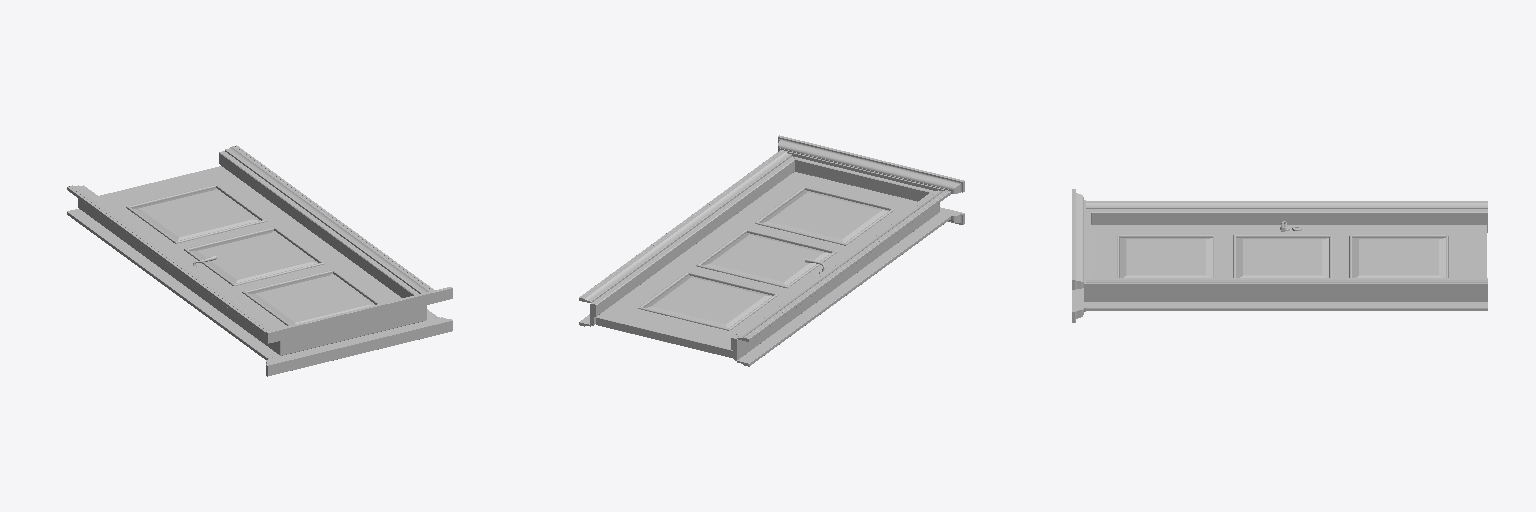
File: porta.obj
3 views of the same model, side by side, from view 1: azimuth 30°, elevation 25°; view 2: azimuth 150°, elevation 25°; view 3: azimuth 270°, elevation 25° (orthographic).
Parts seen in each view (by area): view 1: resurs3d.blogspot.com709, resurs3d.blogspot.com703, resurs3d.blogspot.com706, resurs3d.blogspot.com704, resurs3d.blogspot.com712, resurs3d.blogspot.com711, resurs3d.blogspot.com702, resurs3d.blogspot.com710, resurs3d.blogspot.com700; view 2: resurs3d.blogspot.com709, resurs3d.blogspot.com703, resurs3d.blogspot.com710, resurs3d.blogspot.com704, resurs3d.blogspot.com712, resurs3d.blogspot.com702, resurs3d.blogspot.com711, resurs3d.blogspot.com700; view 3: resurs3d.blogspot.com709, resurs3d.blogspot.com703, resurs3d.blogspot.com702, resurs3d.blogspot.com705, resurs3d.blogspot.com711, resurs3d.blogspot.com712, resurs3d.blogspot.com710.
Boxes of the visible parts, x1=… form: resurs3d.blogspot.com709: x1=99, y1=166, x2=401, y2=327; resurs3d.blogspot.com703: x1=219, y1=151, x2=418, y2=297; resurs3d.blogspot.com706: x1=266, y1=317, x2=452, y2=376; resurs3d.blogspot.com704: x1=67, y1=209, x2=279, y2=359; resurs3d.blogspot.com712: x1=225, y1=145, x2=434, y2=293; resurs3d.blogspot.com711: x1=67, y1=185, x2=274, y2=334; resurs3d.blogspot.com702: x1=78, y1=185, x2=280, y2=355; resurs3d.blogspot.com710: x1=266, y1=287, x2=452, y2=343; resurs3d.blogspot.com700: x1=281, y1=305, x2=426, y2=355; resurs3d.blogspot.com709: x1=596, y1=172, x2=916, y2=358; resurs3d.blogspot.com703: x1=590, y1=156, x2=794, y2=325; resurs3d.blogspot.com710: x1=778, y1=135, x2=964, y2=194; resurs3d.blogspot.com704: x1=737, y1=214, x2=949, y2=366; resurs3d.blogspot.com712: x1=579, y1=150, x2=791, y2=302; resurs3d.blogspot.com702: x1=731, y1=192, x2=939, y2=360; resurs3d.blogspot.com711: x1=737, y1=190, x2=949, y2=341; resurs3d.blogspot.com700: x1=794, y1=157, x2=936, y2=201; resurs3d.blogspot.com709: x1=1091, y1=225, x2=1486, y2=277; resurs3d.blogspot.com703: x1=1084, y1=278, x2=1487, y2=301; resurs3d.blogspot.com702: x1=1086, y1=209, x2=1487, y2=231; resurs3d.blogspot.com705: x1=1086, y1=302, x2=1487, y2=310; resurs3d.blogspot.com711: x1=1086, y1=201, x2=1487, y2=208; resurs3d.blogspot.com712: x1=1086, y1=279, x2=1487, y2=286; resurs3d.blogspot.com710: x1=1072, y1=189, x2=1085, y2=289.
Size of the model in its own units: 1070 by 240 by 2084.